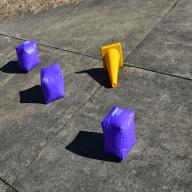cone: (101, 42, 123, 88)
cube: (101, 104, 136, 160), (41, 62, 65, 104), (15, 40, 40, 71)
